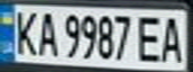7: (112, 11, 136, 61)
8: (97, 11, 118, 61)
9: (60, 10, 81, 58), (78, 10, 96, 60)
A: (157, 12, 187, 64), (33, 8, 60, 57)
E: (133, 12, 166, 63)
K: (9, 7, 39, 56)
